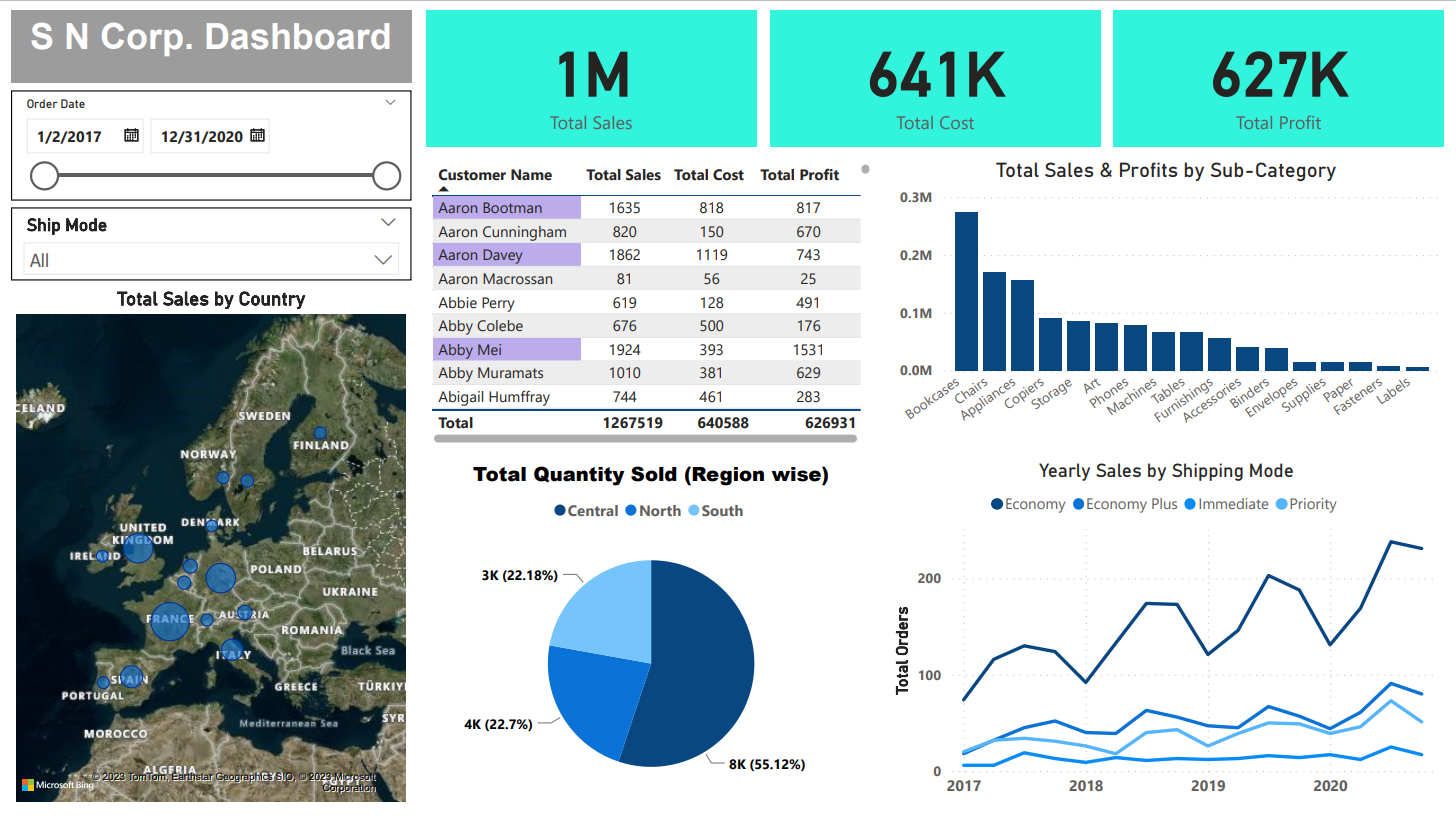

What the dashboard file says about the page in this screenshot:
{"tool":"powerbi","page":{"name":"Page 1","canvas":[1280,720],"ordinal":0},"visuals":[{"type":"card","fields":{"Values":["List of Orders.Sales"]},"box":[368.8,12.3,294,121],"z":0},{"type":"card","fields":{"Values":["List of Orders.Cost"]},"box":[674.8,12.2,294.6,121],"z":1000},{"type":"card","fields":{"Values":["List of Orders.Profit"]},"box":[980.4,12.2,294,121],"z":2000},{"type":"tableEx","fields":{"Values":["List of Orders.Customer Name","List of Orders.Sales","List of Orders.Cost","List of Orders.Profit"]},"box":[368.8,142.6,400.3,259.1],"z":3000},{"type":"clusteredColumnChart","title":"Total Sales and Profit by Sub-Category","fields":{"Category":["List of Orders.Sub-Category"],"Y":["List of Orders.Sales"]},"box":[778.7,143,496.3,259.2],"z":4000},{"type":"lineChart","title":"Total Order in a whole  Year, Quarter by different Shipping Mode","fields":{"Y":["List of Orders.Order ID"],"Category":["List of Orders.Order Date.Variation.Date Hierarchy.Year","List of Orders.Order Date.Variation.Date Hierarchy.Quarter"],"Series":["List of Orders.Ship Mode"]},"box":[778.7,410.7,496.3,309.3],"z":5000},{"type":"pieChart","title":"Quantity Sold by Region","fields":{"Y":["List of Orders.Quantity"],"Category":["List of Orders.Region"]},"box":[369.2,410.7,399.7,309.3],"z":6000},{"type":"map","title":"Total Sales by Country","fields":{"Category":["List of Orders.Country"],"Size":["List of Orders.Sales"]},"box":[0,257.9,355.7,462.1],"z":7000},{"type":"textbox","box":[0,12.2,355.7,63.6],"z":8000},{"type":"slicer","fields":{"Values":["List of Orders.Order Date"]},"box":[0,83.1,355.7,97.8],"z":9000},{"type":"slicer","fields":{"Values":["List of Orders.Ship Mode"]},"box":[0,187,355.7,64.8],"z":10000}]}

Visuals, with their boxes in screenshot pixels (x1, y1, x2, y2), scaled from the page's 1280x720 canvas onto the 1456x823 screenshot:
card - List of Orders.Sales: <bbox>420, 14, 754, 152</bbox>
card - List of Orders.Cost: <bbox>768, 14, 1103, 152</bbox>
card - List of Orders.Profit: <bbox>1115, 14, 1450, 152</bbox>
tableEx - List of Orders.Customer Name x List of Orders.Sales: <bbox>420, 163, 875, 459</bbox>
"Total Sales and Profit by Sub-Category" clusteredColumnChart: <bbox>886, 163, 1450, 460</bbox>
"Total Order in a whole  Year, Quarter by different Shipping Mode" lineChart: <bbox>886, 469, 1450, 822</bbox>
"Quantity Sold by Region" pieChart: <bbox>420, 469, 875, 822</bbox>
"Total Sales by Country" map: <bbox>0, 295, 405, 822</bbox>
textbox: <bbox>0, 14, 405, 87</bbox>
slicer - List of Orders.Order Date: <bbox>0, 95, 405, 207</bbox>
slicer - List of Orders.Ship Mode: <bbox>0, 214, 405, 288</bbox>
